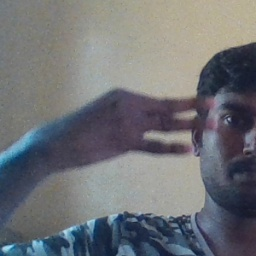K: (60, 86, 222, 159)
